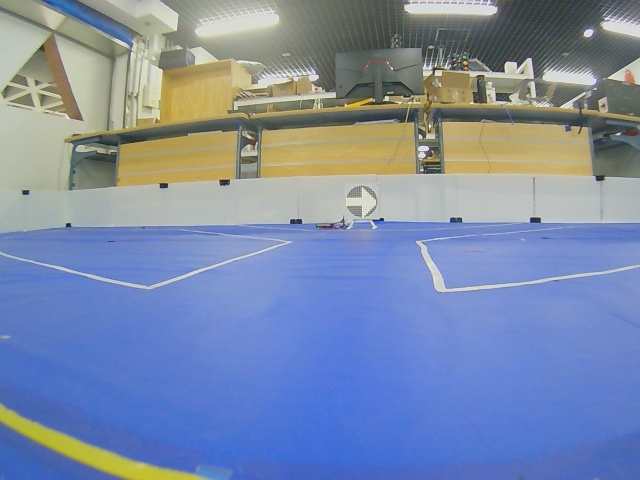right_yellow: (346, 186, 378, 218)
